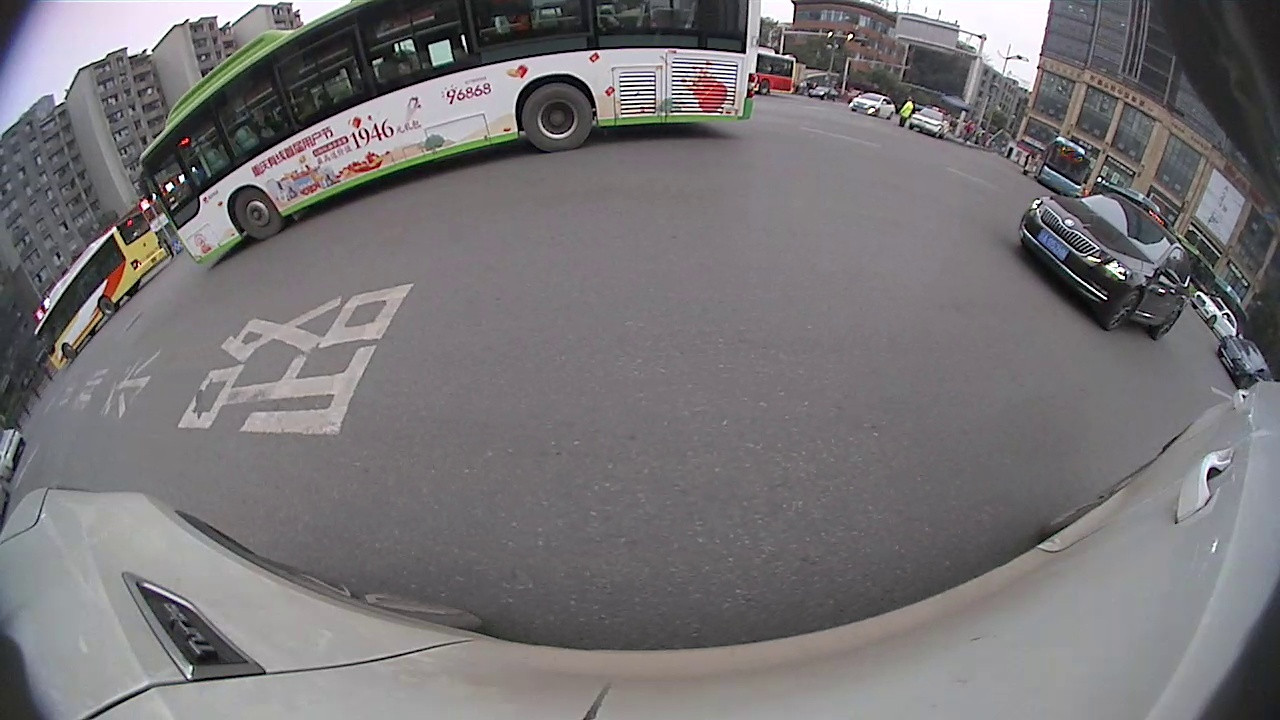bus: (134, 1, 765, 279), (29, 208, 170, 377), (1033, 134, 1094, 200), (751, 49, 804, 97)
car: (1015, 191, 1194, 338), (1211, 334, 1274, 386), (1193, 292, 1242, 345), (848, 87, 896, 123), (908, 103, 953, 138)
front: (224, 184, 287, 241), (1103, 287, 1145, 334)
person: (900, 93, 916, 131)
rear: (520, 80, 595, 155)
